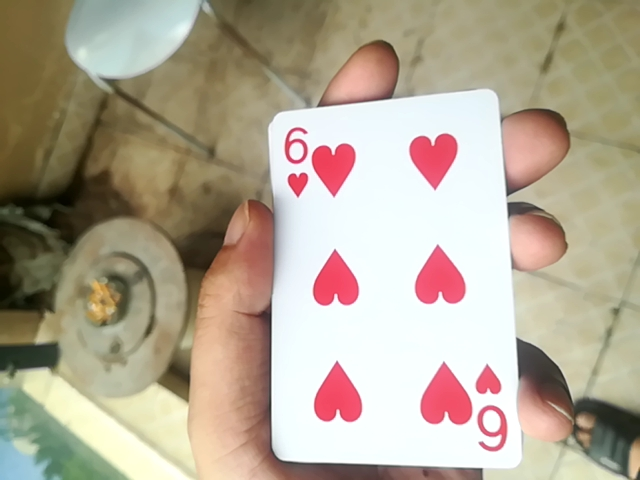hx 6: (272, 95, 515, 462)
